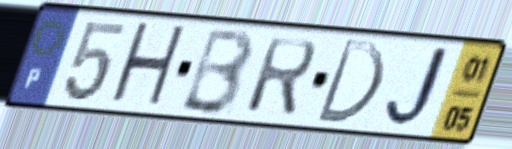5: (61, 17, 131, 103)
B: (175, 26, 258, 119)
D: (311, 36, 387, 128)
H: (104, 18, 190, 113)
J: (382, 44, 459, 132)
R: (241, 35, 320, 120)
